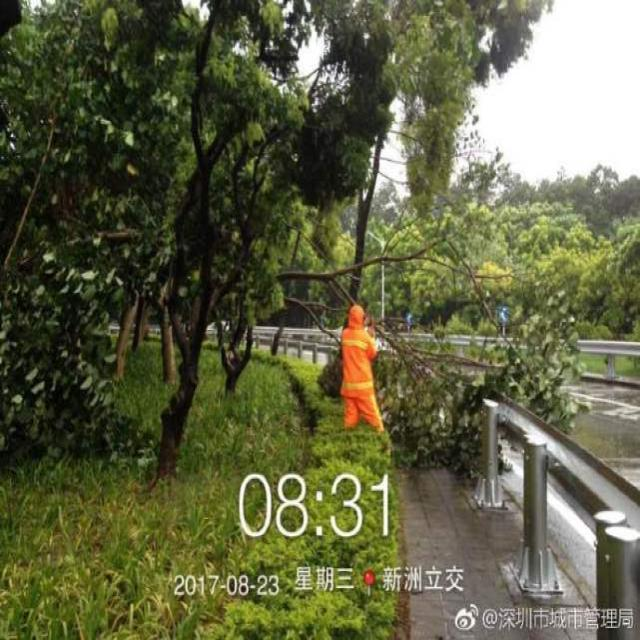fallen_object: (275, 208, 602, 300)
